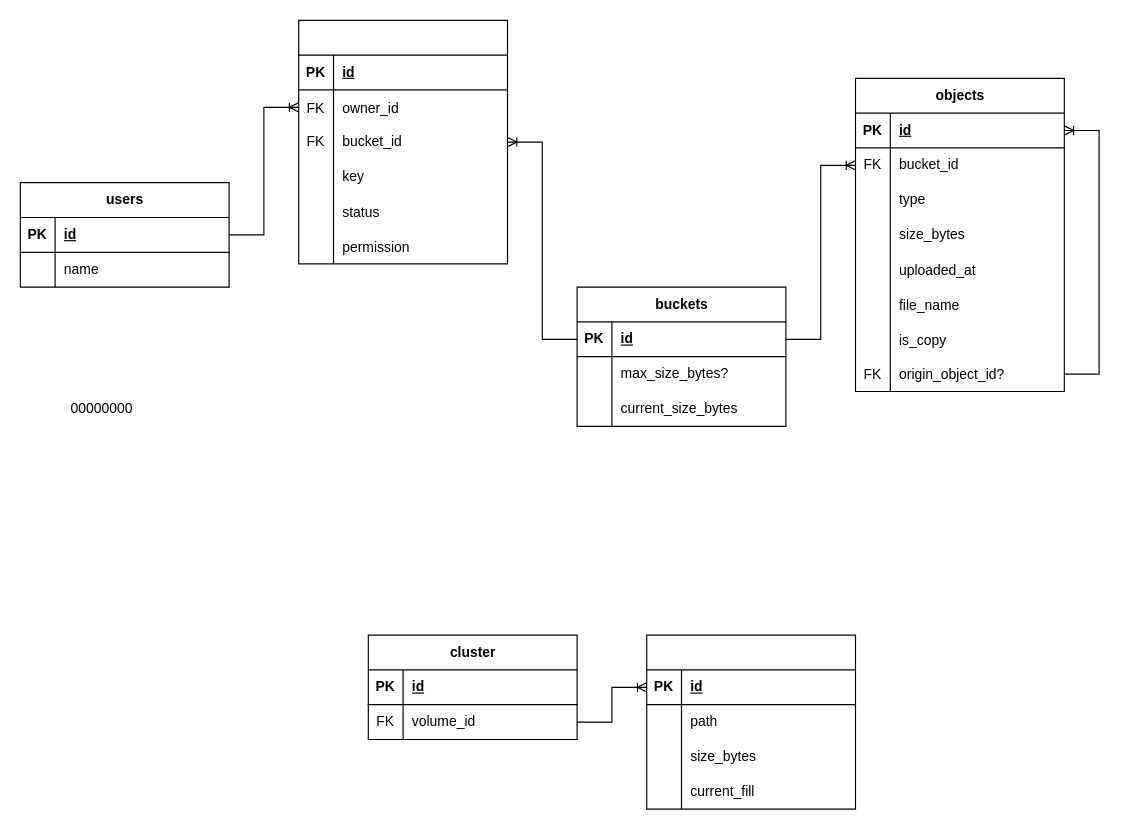
Image size: 1129x829. Some labels were removed from this diagram. Here are the shapes that lost their labels. From the top down, the box of each, then its label:
(298, 19, 507, 264): api_keys
(646, 634, 855, 809): volumes
